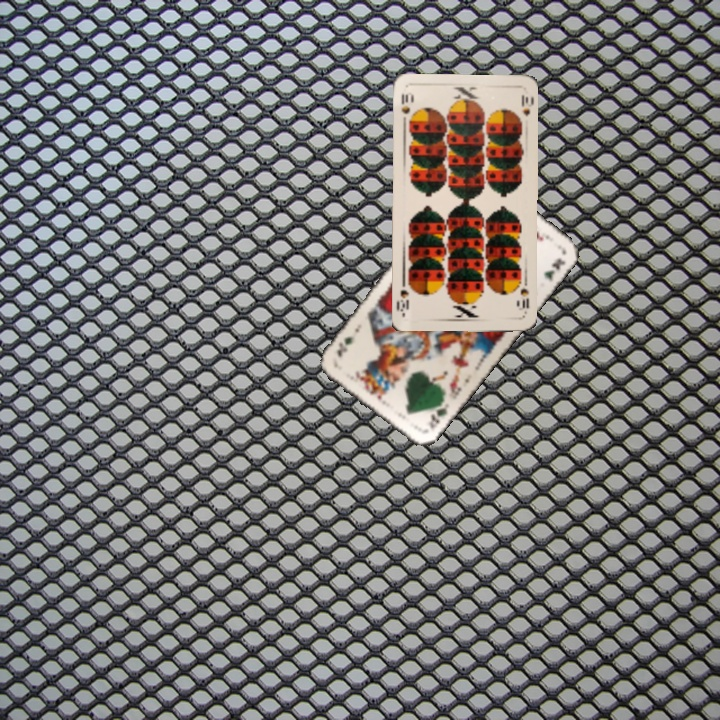GK: (425, 397, 452, 431)
S10: (397, 90, 414, 128), (517, 284, 531, 311)
